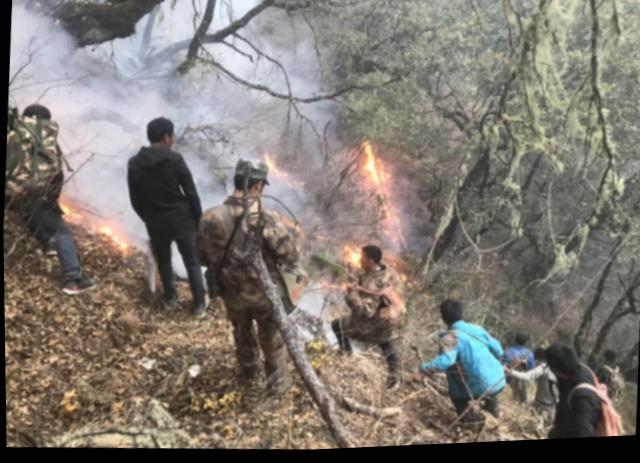fire: (346, 143, 410, 245), (55, 199, 128, 254), (259, 156, 288, 181), (341, 244, 359, 272)
